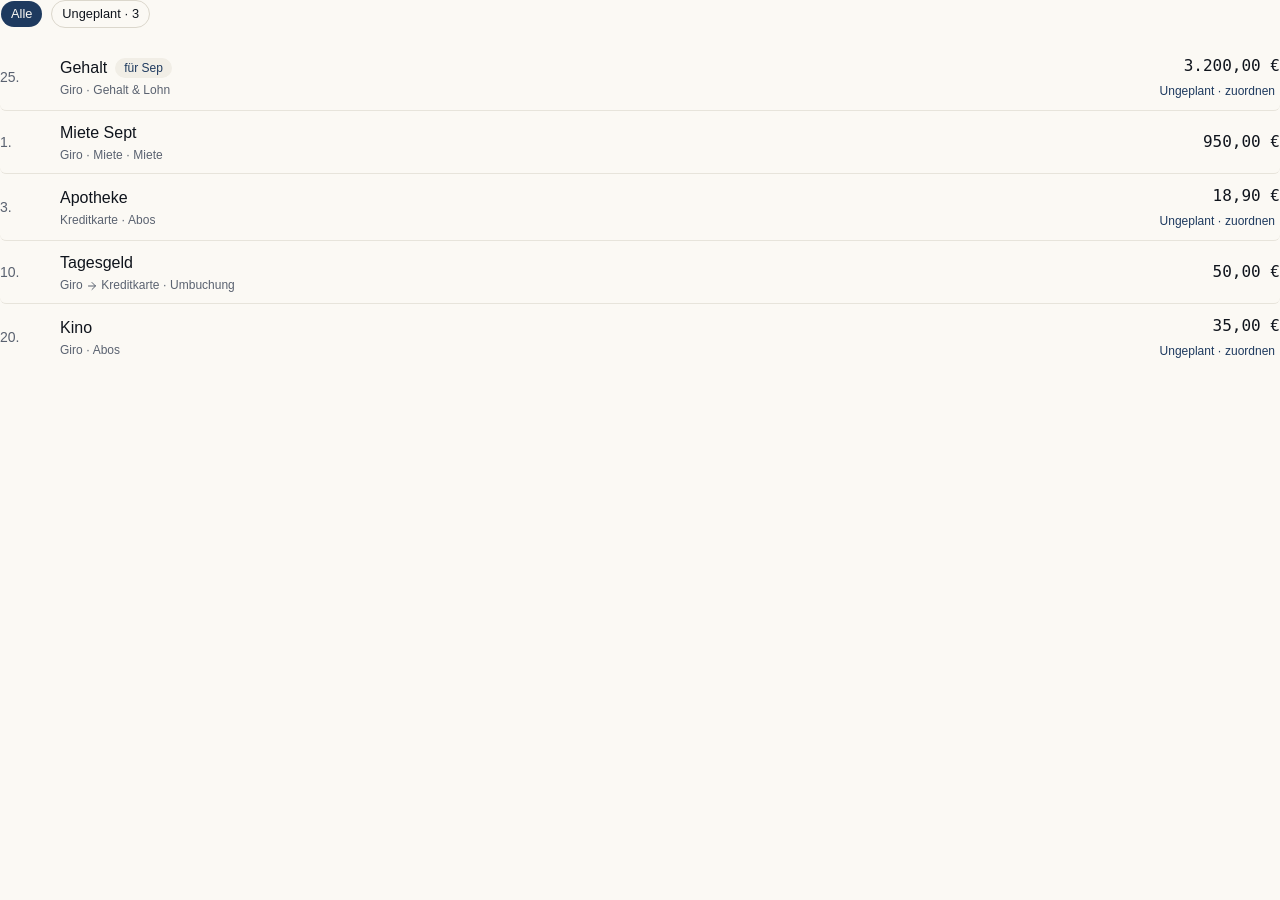
Test: MonthBook list and filter (#241) › an unplanned row offers zuordnen, which opens the booking at its position
The image size is (1280, 900).
Check: the button "20. Kino Giro · Abos" is shown, box [0,316,1143,358]
Click the button "Ungeplant · zuordnen" below "35,00 €" at (1217, 351), box [1155,342,1279,360]
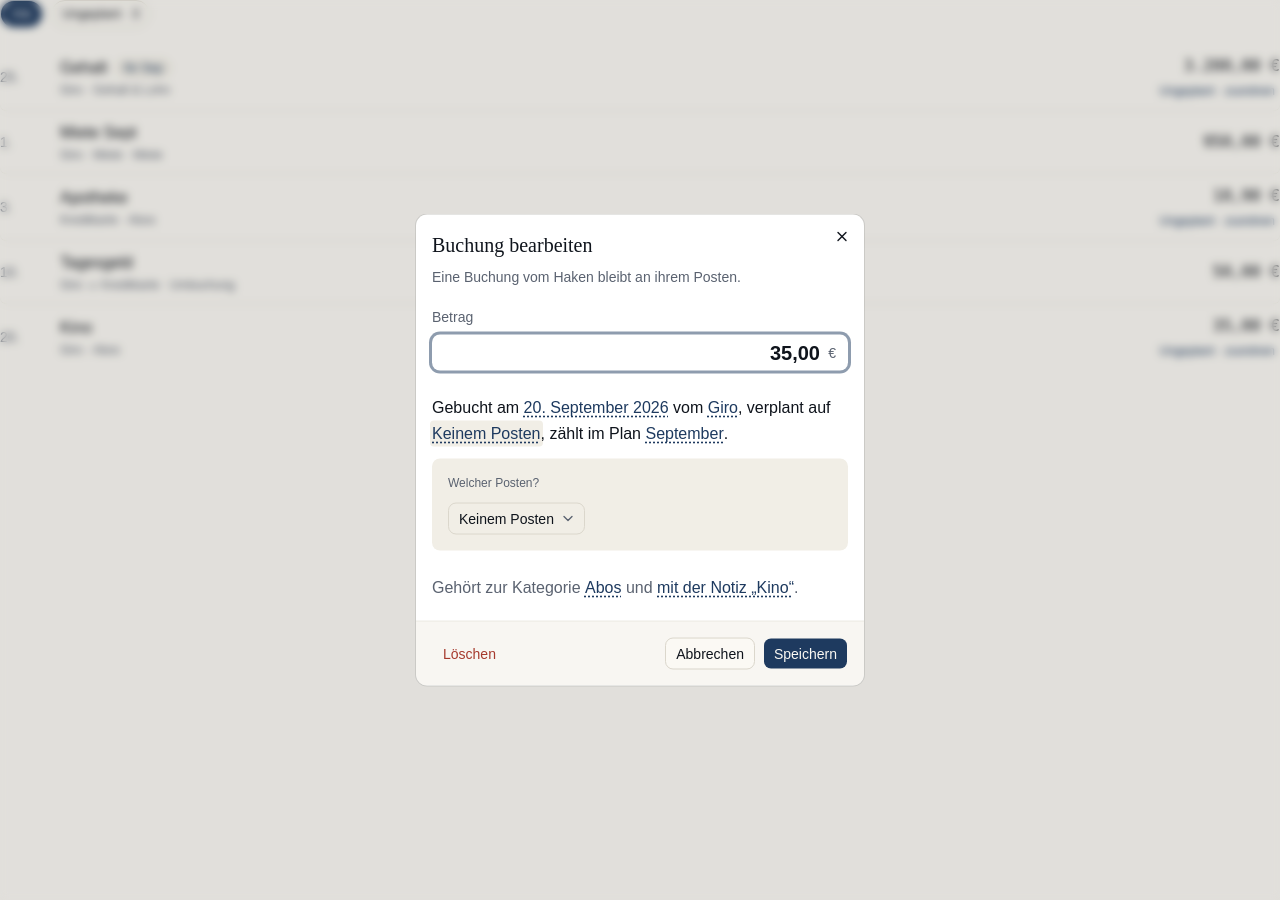
Check: the dropdown named "Welcher Posten?" is shown, box [448,502,585,534]
